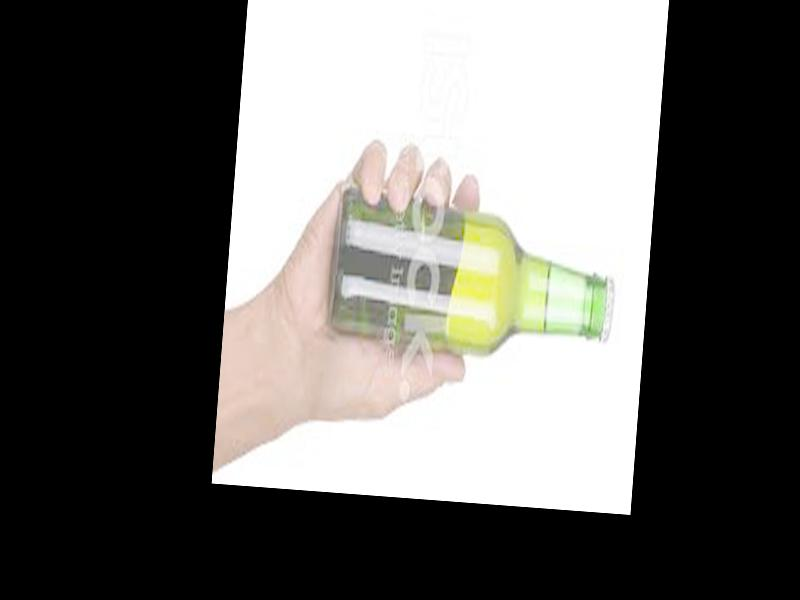Beer: (326, 195, 620, 369)
